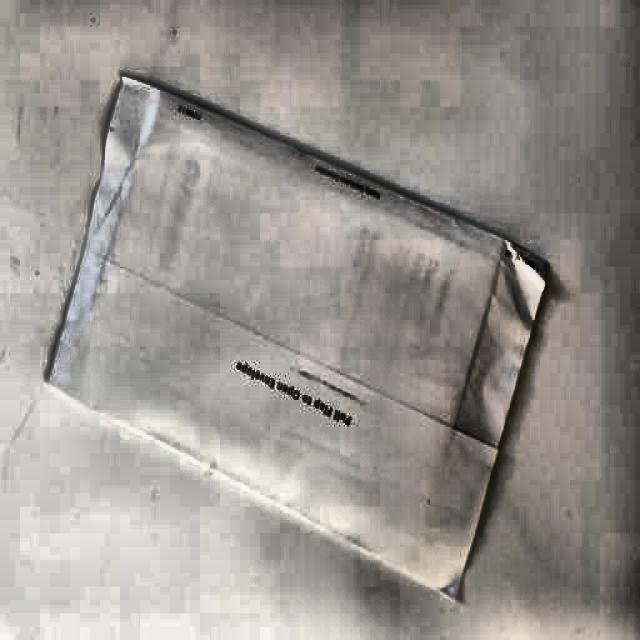paper: (45, 71, 545, 612)
